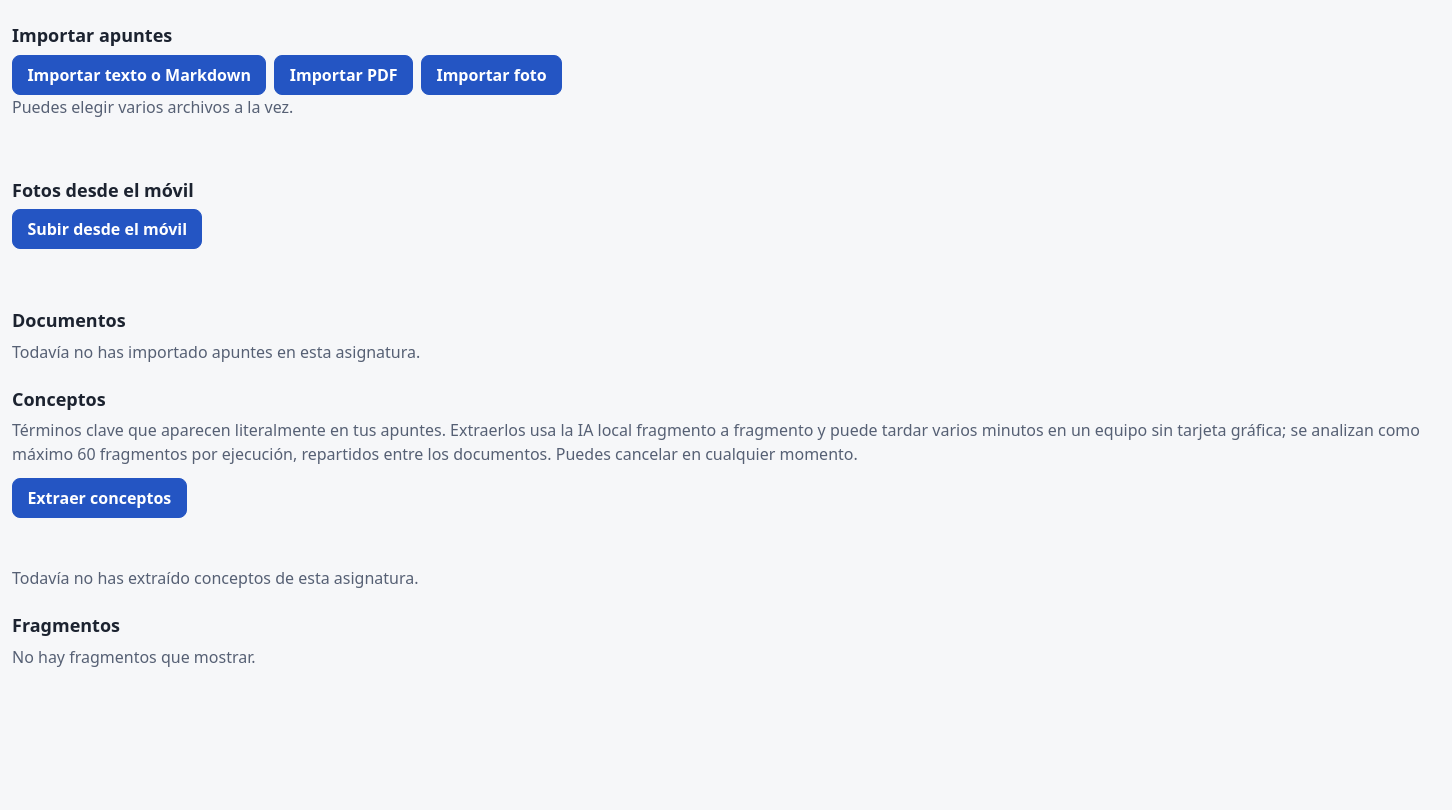
Test case: Notes › PDF sin texto: explica con honestidad que el OCR es solo para imágenes
Click the button "Importar PDF": (344,74) [274,54,413,94]
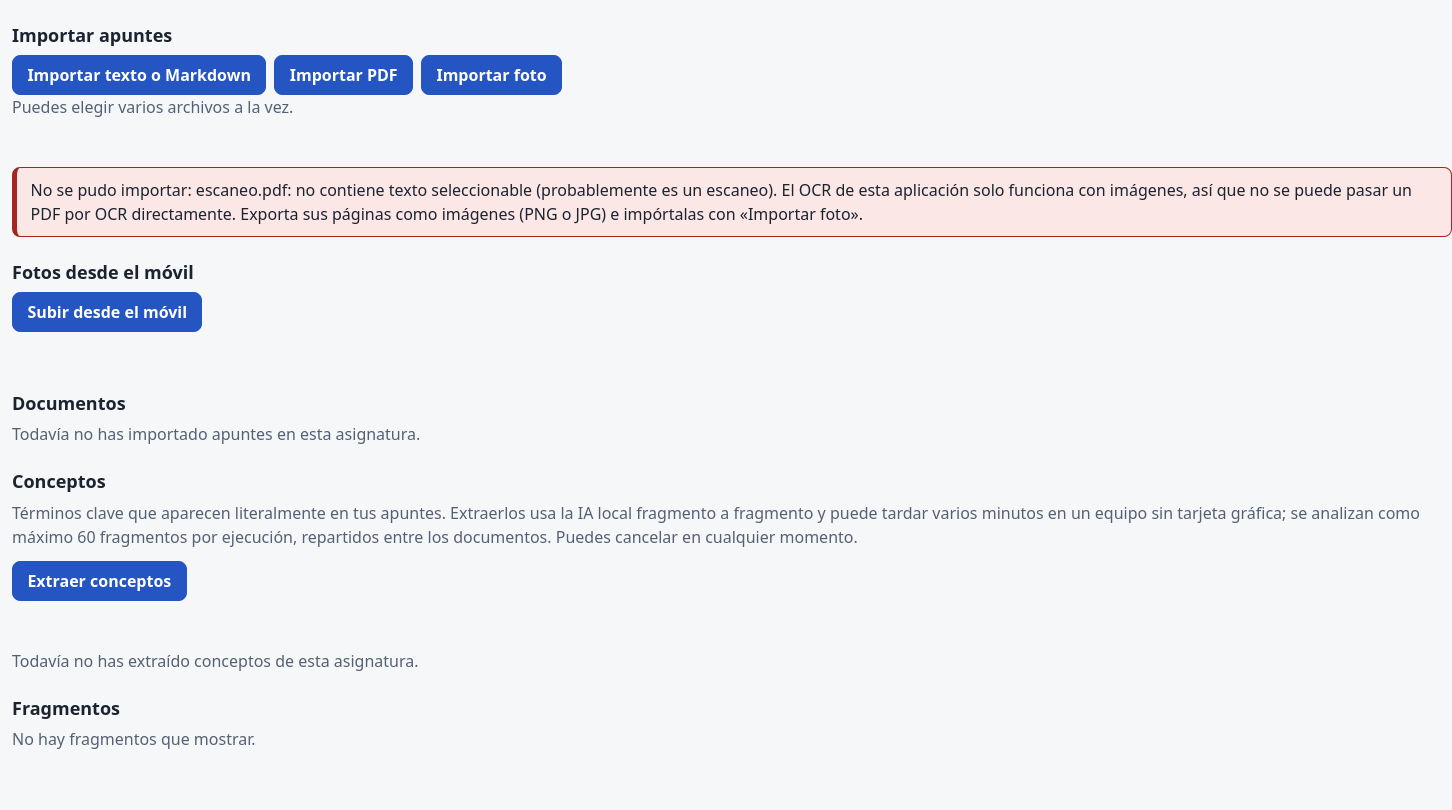
Expected: the 2nd message shows "escaneo.pdf", [31,179,1412,225]
Expected: the 2nd message shows "no contiene texto", [31,179,1412,225]
Expected: the 2nd message shows "exporta", [31,179,1412,225]
